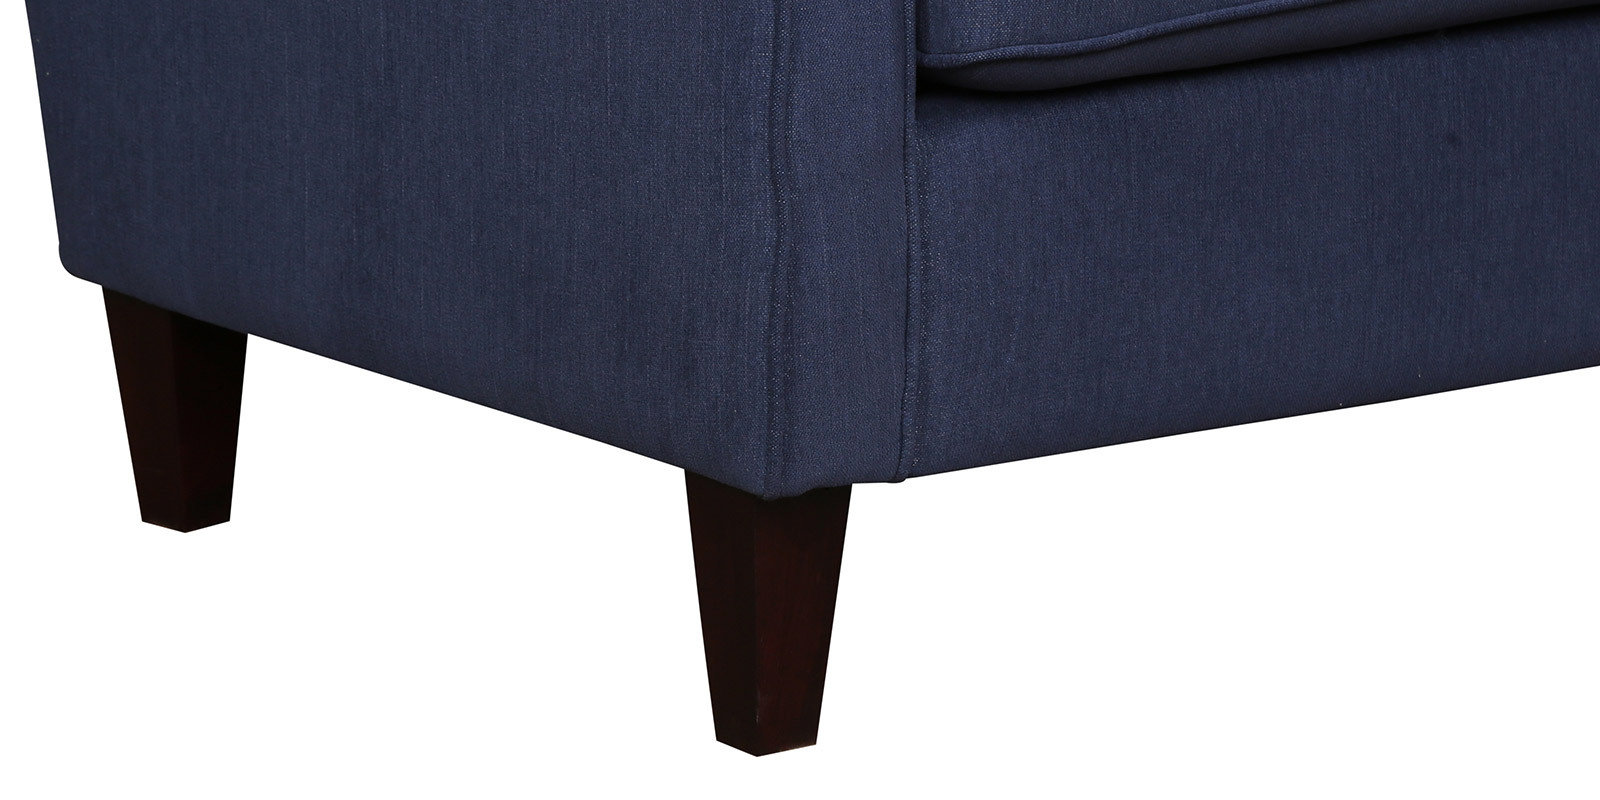Oscar Three Seater Sofa in Navy Blue Colour by CasaCraft: (24, 1, 1600, 758)
